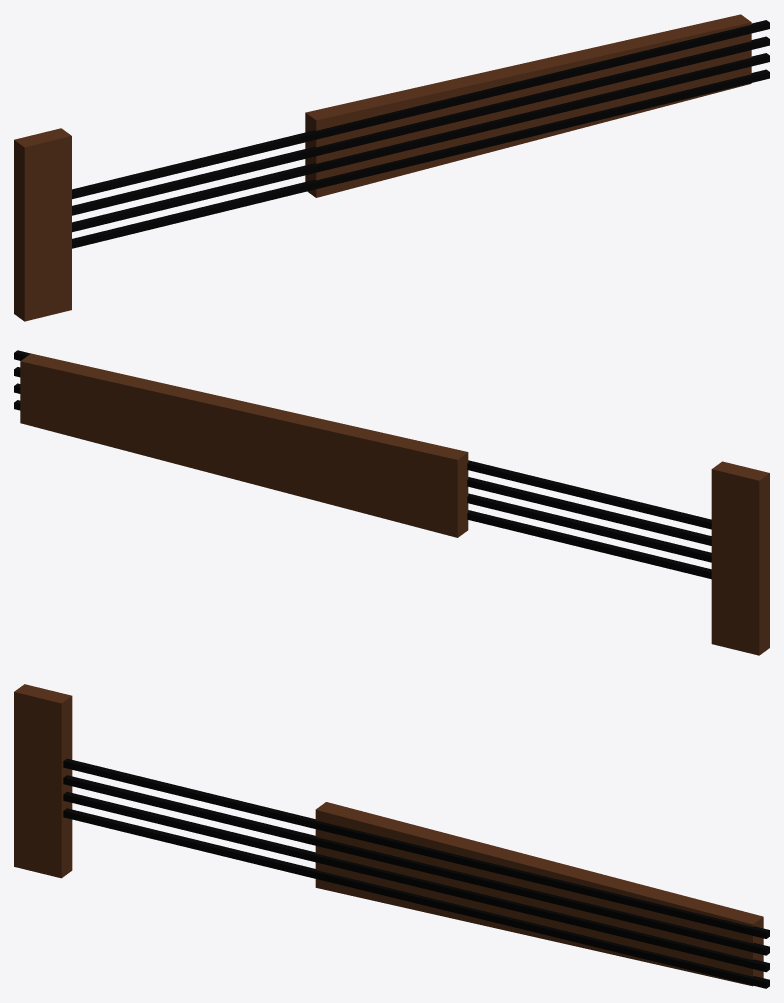
Rendered from GuitarNeck.fbx.
3 renders of one model, top to bottom at view 1: azimuth 30°, elevation 25°; view 2: azimuth 150°, elevation 25°; view 3: azimuth 330°, elevation 25°, orthographic.
Parts seen in each view (by area): view 1: Plane.040; view 2: Plane.040; view 3: Plane.040.
Part boxes in pixels (box(x1,y1,x2,y2)): Plane.040: box(14, 14, 769, 321); Plane.040: box(14, 350, 769, 655); Plane.040: box(14, 684, 769, 988).
Size of the model in its own units: 4.47 by 0.9965 by 0.1555.
